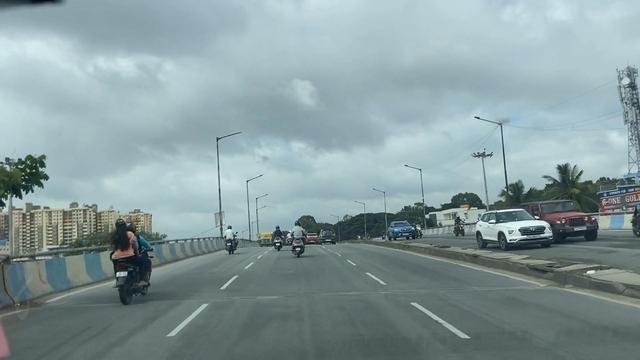LMV: (111, 217, 152, 302), (294, 221, 305, 257), (271, 224, 283, 249), (225, 225, 236, 251), (319, 227, 335, 244)
